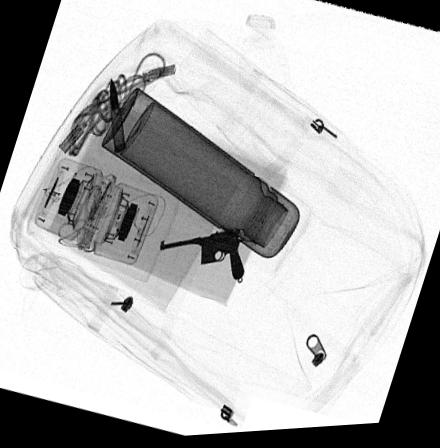Bullet: (109, 80, 124, 154)
Gun: (158, 229, 245, 283)
